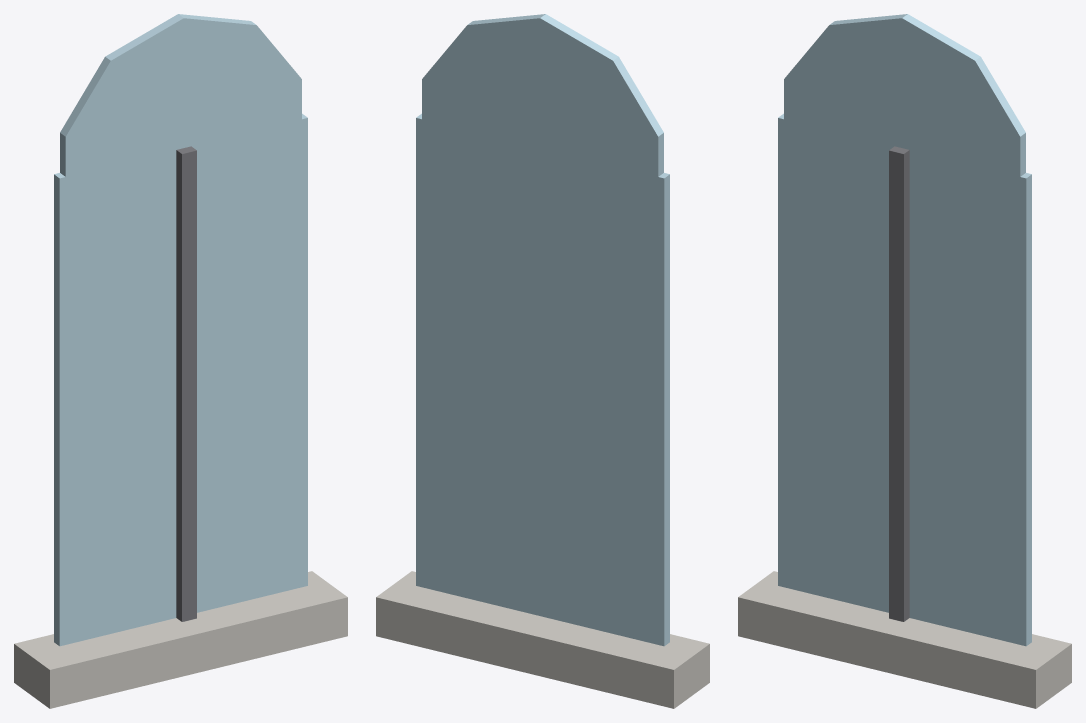
The model's file is window_arched.glb.
3 views of the same model, side by side, from view 1: azimuth 30°, elevation 25°; view 2: azimuth 150°, elevation 25°; view 3: azimuth 330°, elevation 25° (orthographic).
Parts seen in each view (by area): view 1: window_arched; view 2: window_arched; view 3: window_arched.
Part boxes in pixels (x1,y1,x2,y2): window_arched: (14,14,347,708); window_arched: (376,14,709,708); window_arched: (738,14,1071,708).
Bounding box in the file's own units: 1.2 × 2.48 × 0.2499.
